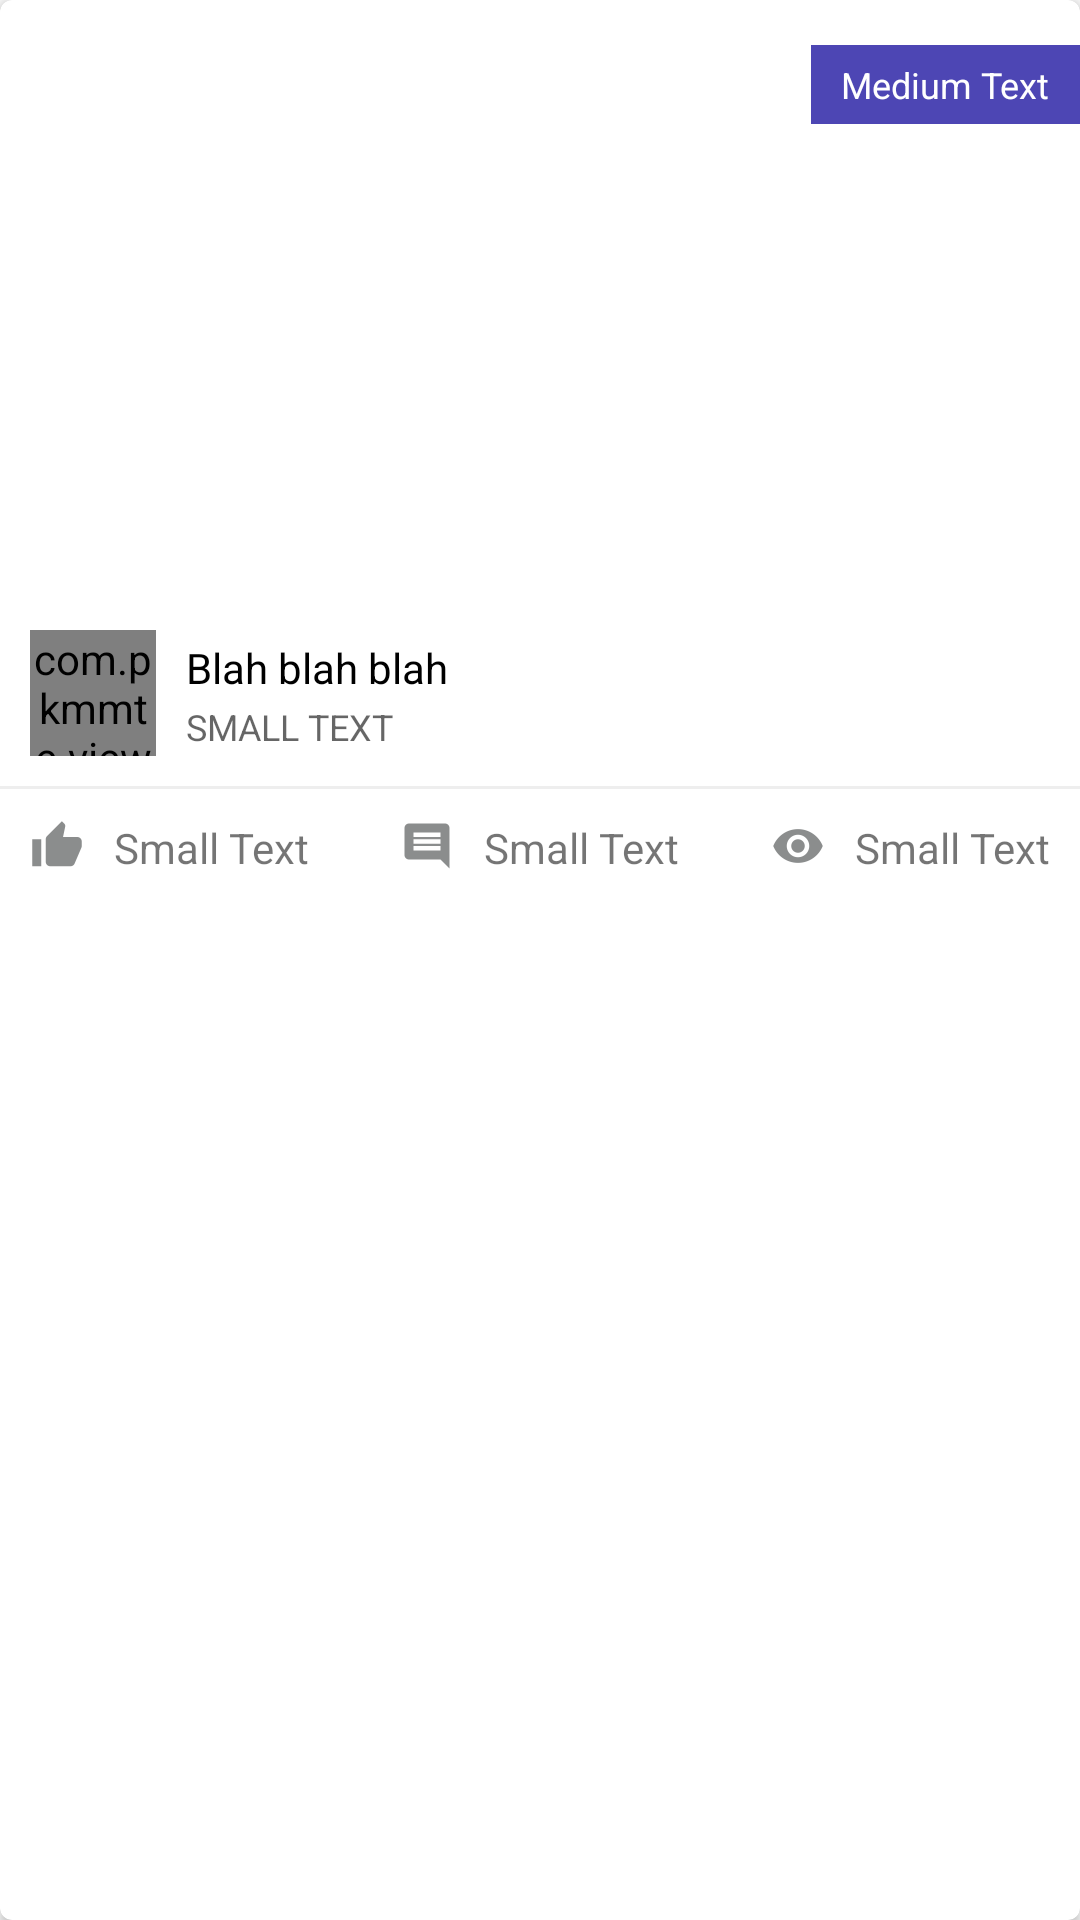

Icons on this 1080 x 1920 Android screen, each with its box as (x1, y1, x2, y2):
comment: (404, 823, 450, 868)
thumb up: (32, 821, 82, 867)
